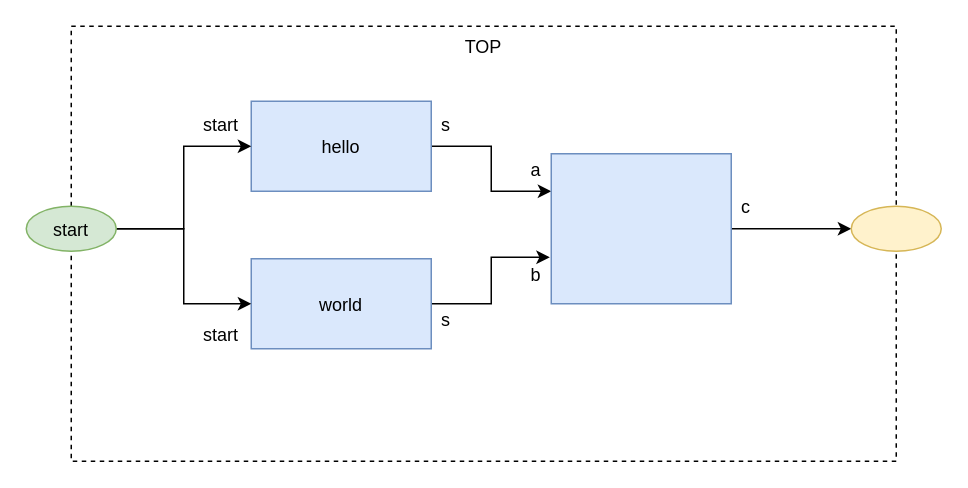
Some shapes in this 968 by 488 pixel diagram are drawn without their labels. The shapes that lost their labels are listed below. From the top down, each one's centre as x and y in pixels, then its label:
the point at 640,228: string-join
the point at 895,228: result
